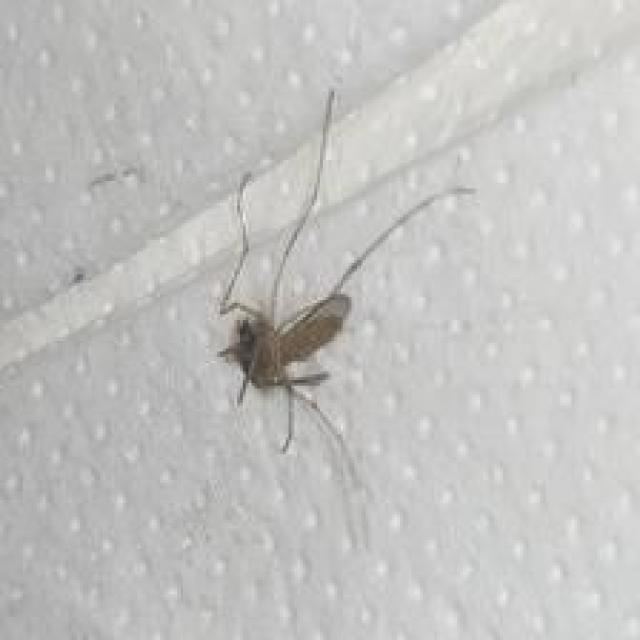Culex: (213, 86, 476, 548)
